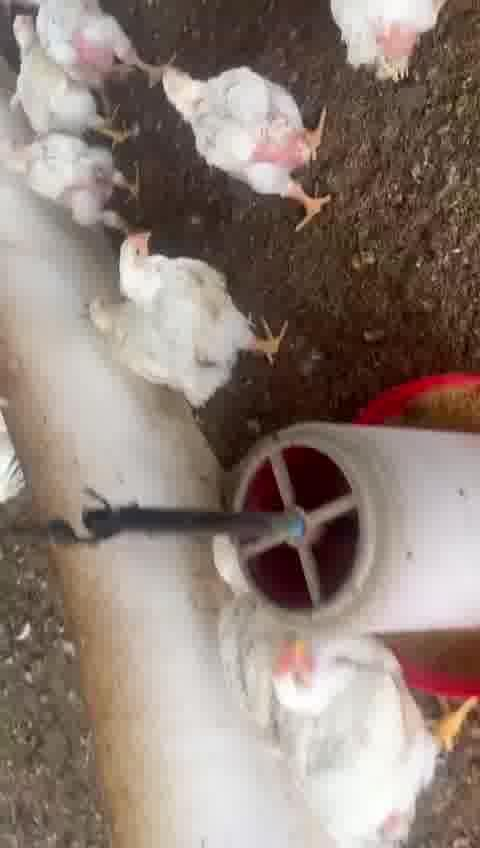Normal: (256, 641, 471, 837), (157, 70, 333, 218), (117, 230, 283, 364), (9, 12, 133, 145)
